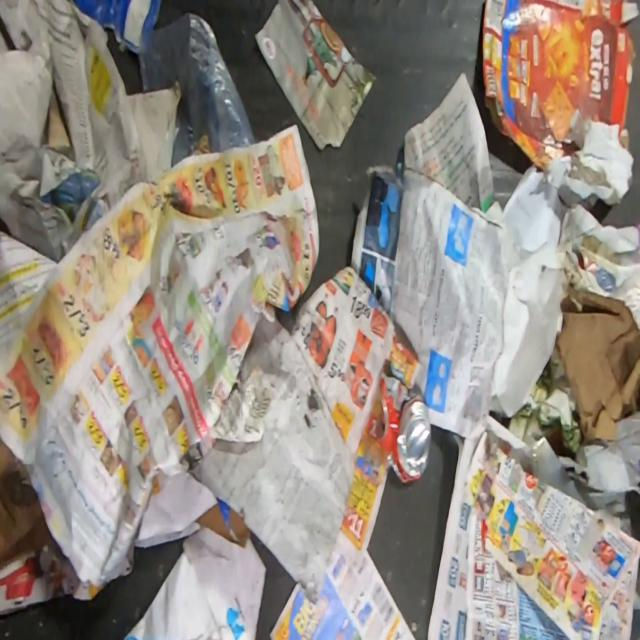cardboard: (481, 0, 640, 172), (555, 281, 639, 443), (0, 439, 52, 570)
metal: (377, 371, 432, 484)
soft_plastic: (137, 11, 257, 169)
